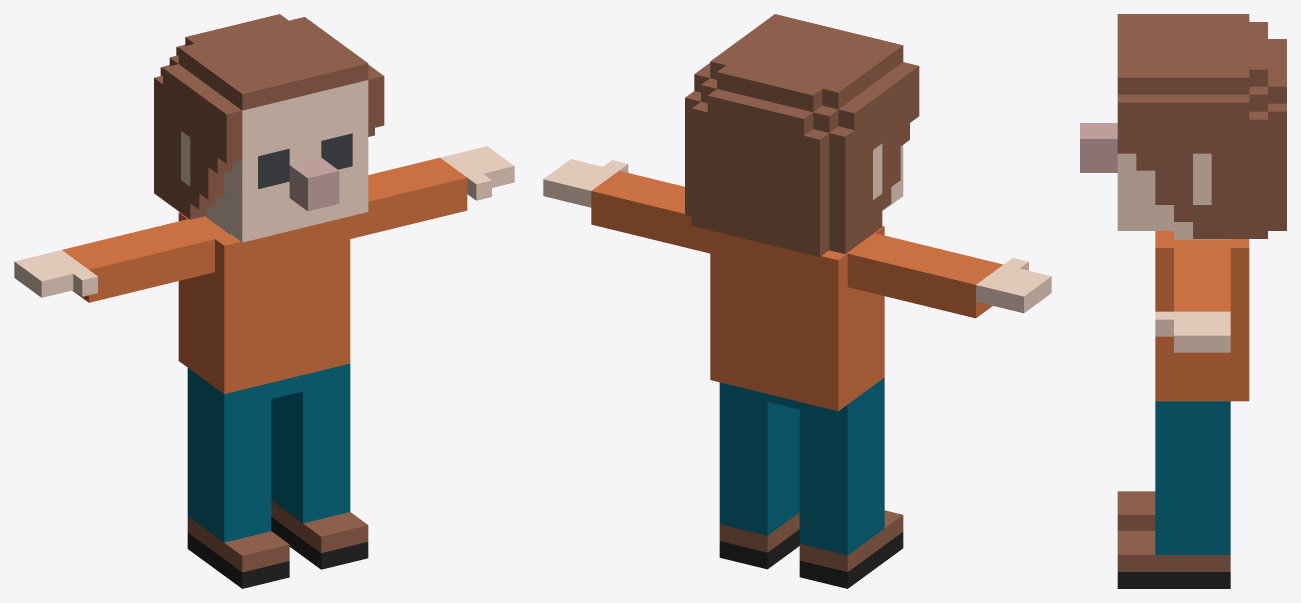
File: student-2.obj
3 views of the same model, side by side, from view 1: azimuth 30°, elevation 25°; view 2: azimuth 150°, elevation 25°; view 3: azimuth 270°, elevation 25° (orthographic). The views are drawn at different scales.
Size of the model in its own units: 3 by 3 by 1.1.
Materials: 1 (1 with a texture image).
